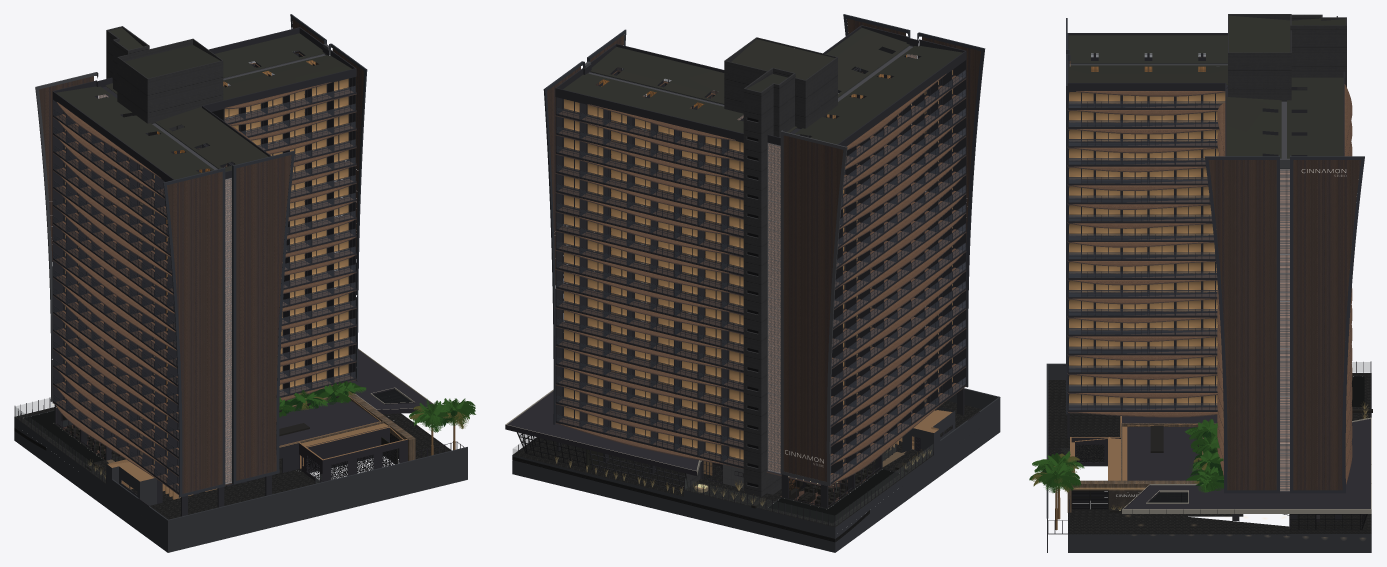
File: fachada-real.glb
The picture shows the model from 3 angles, left to right: view 1: azimuth 30°, elevation 25°; view 2: azimuth 150°, elevation 25°; view 3: azimuth 270°, elevation 25°; orthographic projection. The views are drawn at different scales.
Parts seen in each view (by area): view 1: CASCA-0, TERREO-0, INTERIOR, PAV-17-0, PAV-16-0, PAV-15-0, PAV-02-0, PAV-01-0, PAV-03-0, PAV-04-0, PAV-05-0, PAV-06-0 (+8 smaller); view 2: CASCA-0, TERREO-0, INTERIOR, PAV-17-0, PAV-01-0, PAV-02-0, PAV-04-0, PAV-03-0, PAV-07-0, PAV-05-0, PAV-06-0, PAV-08-0 (+8 smaller); view 3: CASCA-0, TERREO-0, INTERIOR, PAV-16-0, PAV-04-0, PAV-03-0, PAV-12-0, PAV-17-0, PAV-11-0, PAV-08-0, PAV-06-0, PAV-15-0 (+8 smaller).
Boxes of the visible parts, x1=… form: CASCA-0: x1=35, y1=14, x2=367, y2=516; TERREO-0: x1=14, y1=109, x2=467, y2=552; INTERIOR: x1=14, y1=43, x2=475, y2=521; PAV-17-0: x1=53, y1=50, x2=356, y2=198; PAV-16-0: x1=53, y1=73, x2=356, y2=217; PAV-15-0: x1=53, y1=94, x2=356, y2=236; PAV-02-0: x1=53, y1=326, x2=356, y2=477; PAV-01-0: x1=53, y1=344, x2=356, y2=494; PAV-03-0: x1=53, y1=308, x2=356, y2=459; PAV-04-0: x1=53, y1=290, x2=356, y2=441; PAV-05-0: x1=53, y1=273, x2=356, y2=423; PAV-06-0: x1=53, y1=255, x2=356, y2=405; CASCA-0: x1=543, y1=14, x2=985, y2=507; TERREO-0: x1=505, y1=381, x2=1000, y2=552; INTERIOR: x1=512, y1=61, x2=979, y2=542; PAV-17-0: x1=555, y1=51, x2=966, y2=166; PAV-01-0: x1=555, y1=367, x2=966, y2=485; PAV-02-0: x1=555, y1=348, x2=966, y2=465; PAV-04-0: x1=555, y1=310, x2=966, y2=427; PAV-03-0: x1=555, y1=329, x2=966, y2=446; PAV-07-0: x1=555, y1=252, x2=966, y2=369; PAV-05-0: x1=555, y1=290, x2=966, y2=408; PAV-06-0: x1=555, y1=271, x2=966, y2=388; PAV-08-0: x1=555, y1=233, x2=966, y2=349; CASCA-0: x1=1066, y1=14, x2=1364, y2=520; TERREO-0: x1=1046, y1=108, x2=1371, y2=552; INTERIOR: x1=1029, y1=158, x2=1372, y2=539; PAV-16-0: x1=1068, y1=67, x2=1307, y2=156; PAV-04-0: x1=1068, y1=311, x2=1217, y2=356; PAV-03-0: x1=1068, y1=330, x2=1217, y2=374; PAV-12-0: x1=1068, y1=160, x2=1210, y2=205; PAV-17-0: x1=1068, y1=53, x2=1306, y2=135; PAV-11-0: x1=1068, y1=179, x2=1212, y2=223; PAV-08-0: x1=1068, y1=235, x2=1217, y2=280; PAV-06-0: x1=1068, y1=273, x2=1217, y2=318; PAV-15-0: x1=1068, y1=103, x2=1222, y2=148.
Size of the model in its own units: 55.92 by 68.46 by 50.5.
55 materials, 17 textured.
